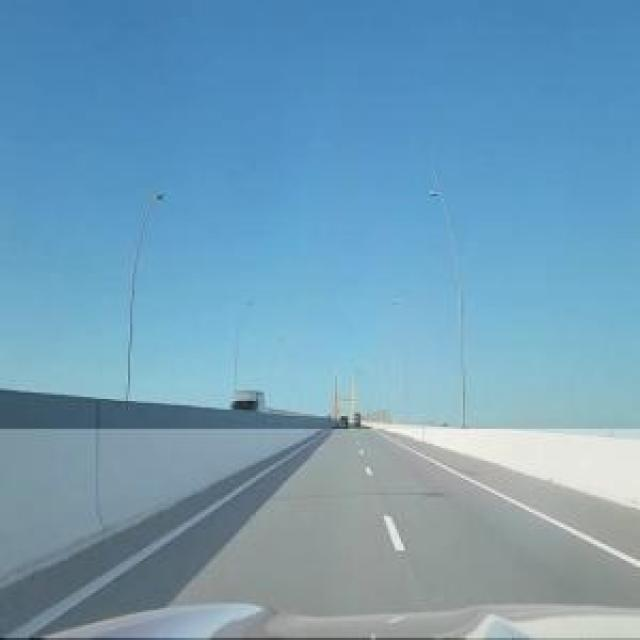clear-road: (0, 429, 640, 638)
